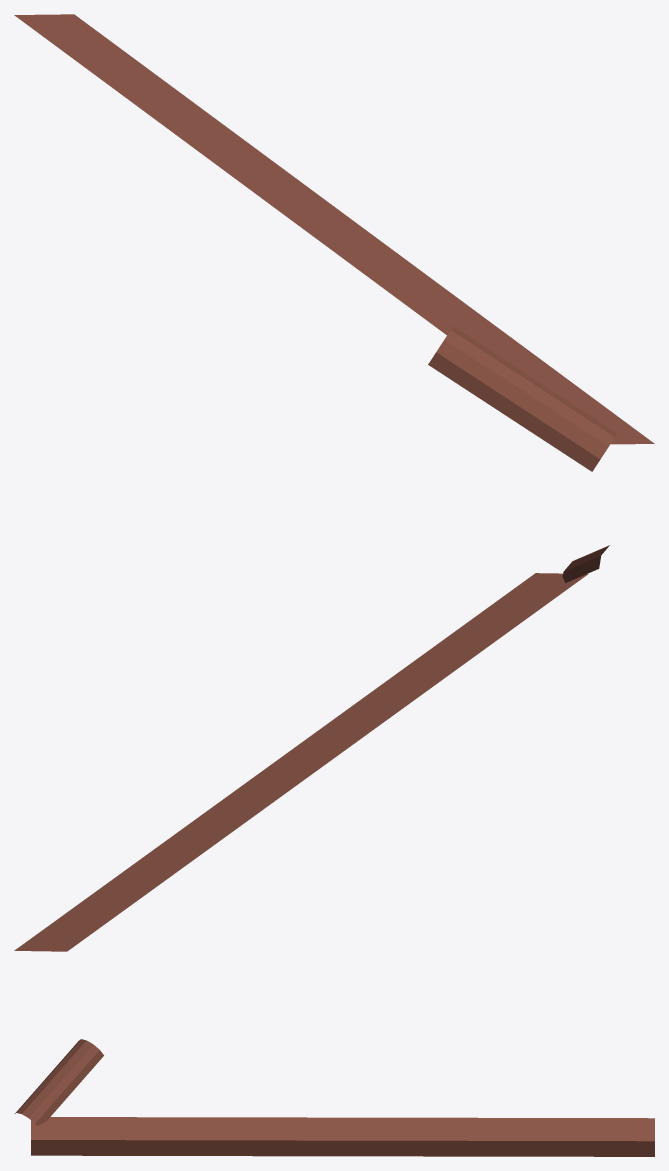
3 renders of one model, top to bottom at view 1: azimuth 30°, elevation 25°; view 2: azimuth 150°, elevation 25°; view 3: azimuth 270°, elevation 25°, orthographic. The views are drawn at different scales.
Visible parts, largest first — view 1: detail; view 2: detail; view 3: detail.
Boxes of the visible parts, x1,y1,x2,y2 form: detail: [14, 14, 654, 471]; detail: [14, 545, 609, 951]; detail: [15, 1039, 654, 1156].
Size of the model in its own units: 0.9864 by 0.8422 by 5.53.
